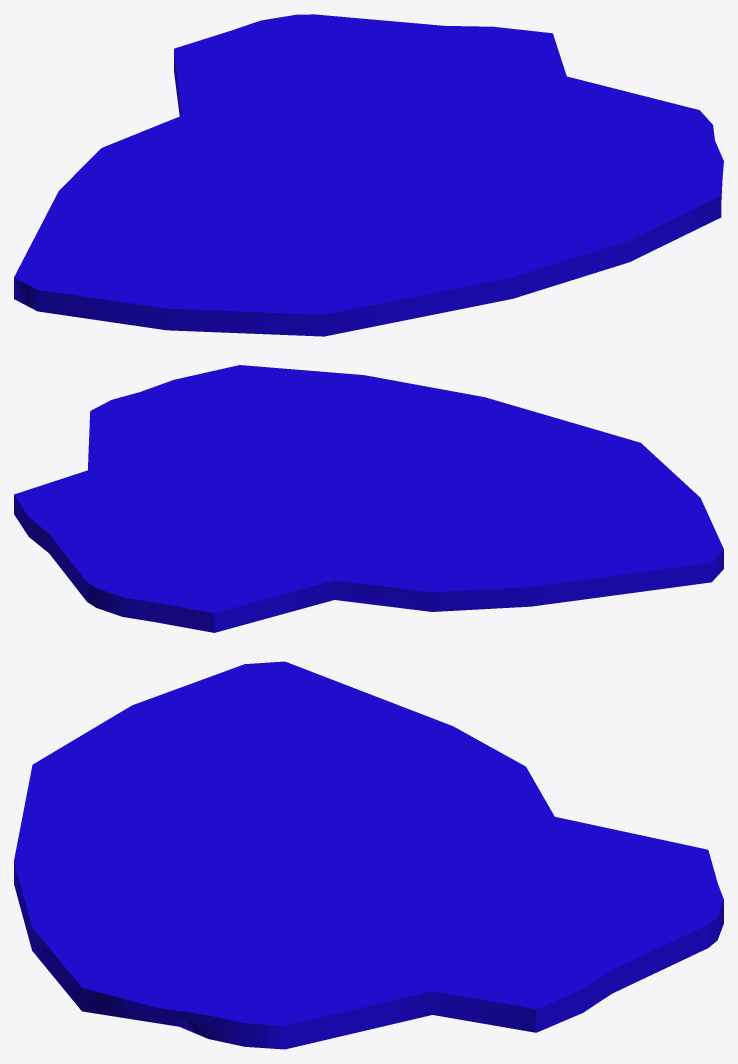
File: puddle1.fbx
3 views of the same model, one above another, from view 1: azimuth 30°, elevation 25°; view 2: azimuth 150°, elevation 25°; view 3: azimuth 270°, elevation 25° (orthographic). The views are drawn at different scales.
Parts seen in each view (by area): view 1: pCylinder1; view 2: pCylinder1; view 3: pCylinder1.
Boxes of the visible parts, left/top/right/bottom form: pCylinder1: left=14, top=14, right=723, bottom=336; pCylinder1: left=14, top=365, right=723, bottom=632; pCylinder1: left=14, top=661, right=723, bottom=1049.
Size of the model in its own units: 6.61 by 0.2 by 5.44.
